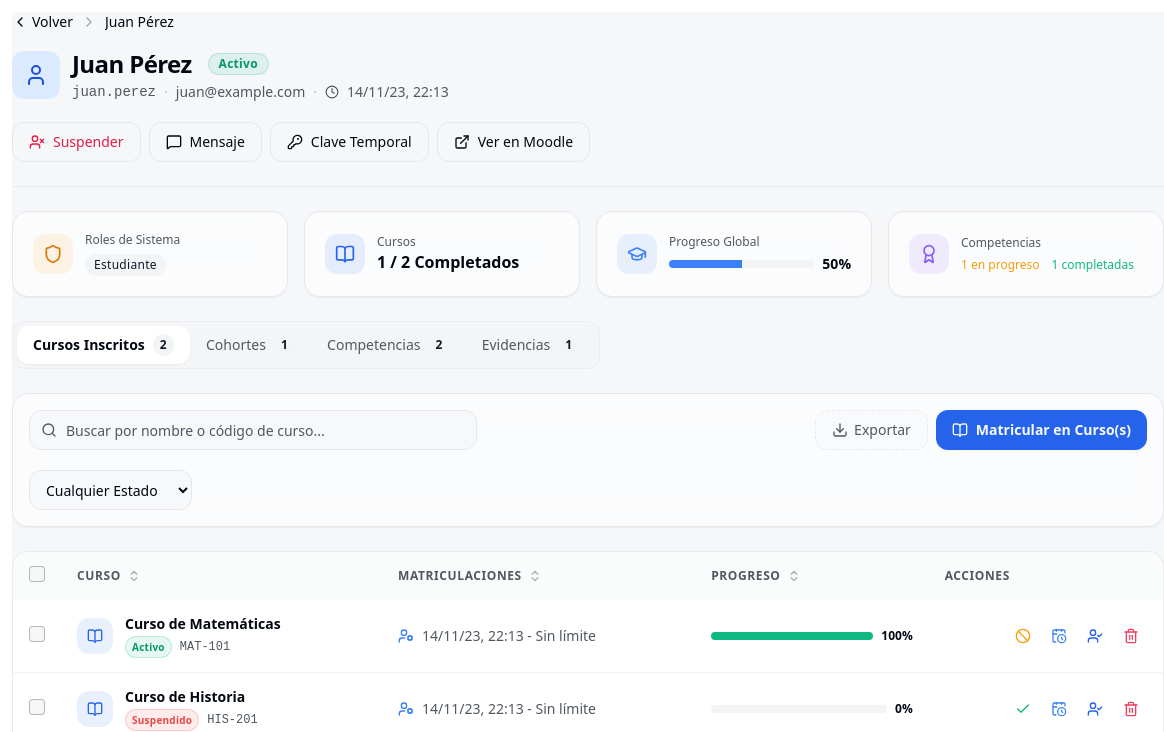
Test: Refactor Vista Detalle de Usuario › UserDetailView incluye pestaña Competencias con contador y permite cambiar de tab
The image size is (1164, 732).
// Cambiar a la pestaña de Competencias
Click the button "Competencias 2".
click(388, 345)  # box [311,326,466,364]
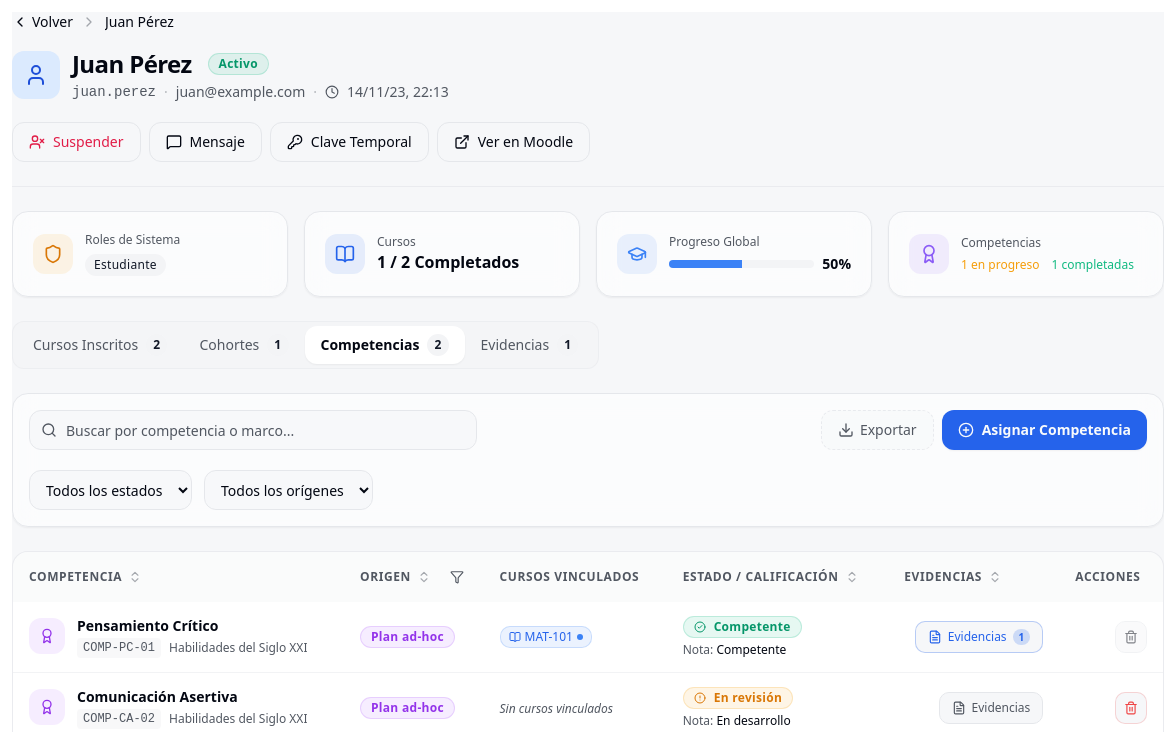
Expected: the text "Pensamiento Crítico" is shown, [77,616,218,635]
Expected: the text "COMP-PC-01" is shown, [77,638,161,658]
Expected: the text "Comunicación Asertiva" is shown, [77,687,238,706]
